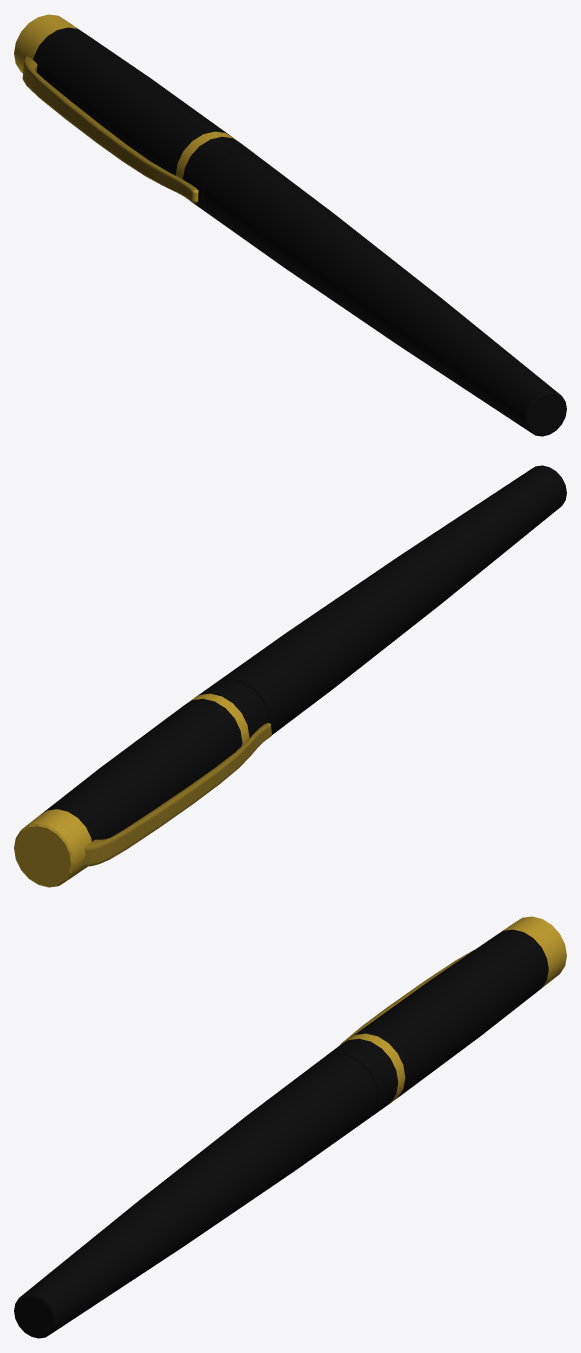
The model's file is Pen.FBX.
3 views of the same model, one above another, from view 1: azimuth 30°, elevation 25°; view 2: azimuth 150°, elevation 25°; view 3: azimuth 330°, elevation 25° (orthographic).
Visible parts, largest first — view 1: pen; view 2: pen; view 3: pen.
Boxes of the visible parts, bbox=[...] form: pen: bbox=[14, 14, 566, 436]; pen: bbox=[14, 465, 566, 887]; pen: bbox=[14, 916, 566, 1338].
Size of the model in its own units: 1.42 by 1.13 by 15.01.
1 material, 1 textured.
